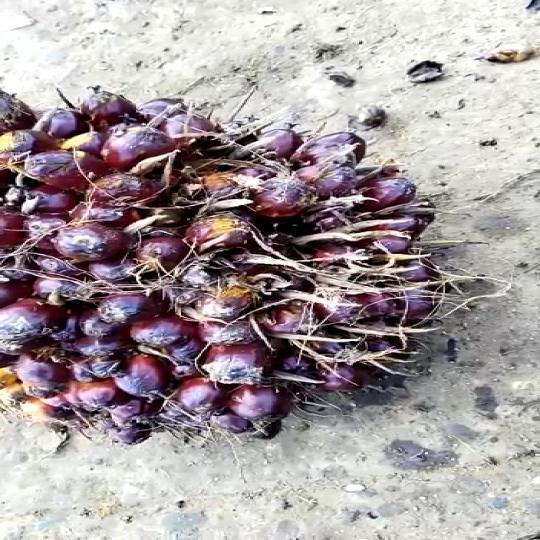kurang masak: (0, 75, 467, 476)
